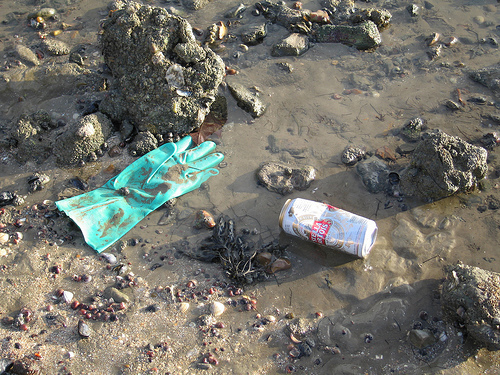litter: (54, 134, 226, 253), (278, 197, 380, 261)
